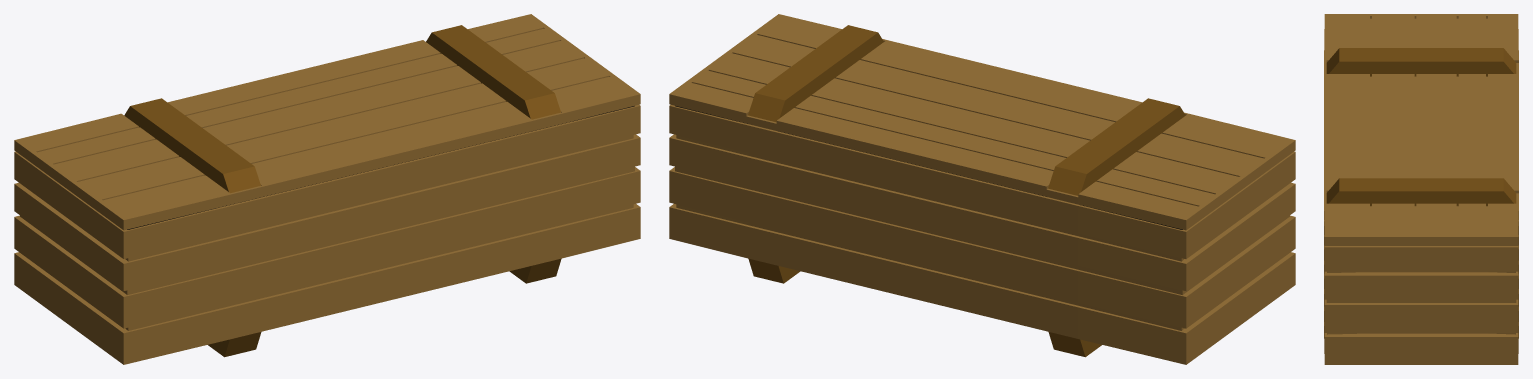
File: WoodenLongCrate.fbx
3 renders of one model, left to right at view 1: azimuth 30°, elevation 25°; view 2: azimuth 150°, elevation 25°; view 3: azimuth 270°, elevation 25°, orthographic. The views are drawn at different scales.
Visible parts, largest first — view 1: Cube; view 2: Cube; view 3: Cube.
Part boxes in pixels (<box>): Cube: <box>14,14,640,364</box>; Cube: <box>669,14,1295,364</box>; Cube: <box>1324,14,1518,364</box>.
Bounding box in the file's own units: 611 × 206 × 226.
